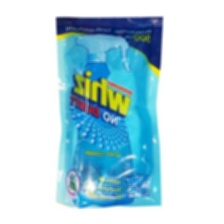cleaning_solution: (53, 12, 166, 211)
